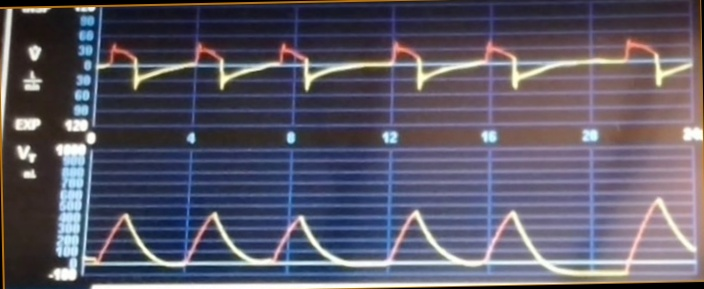Normal Flow: (102, 18, 691, 114)
Normal Volume: (89, 185, 695, 277)
